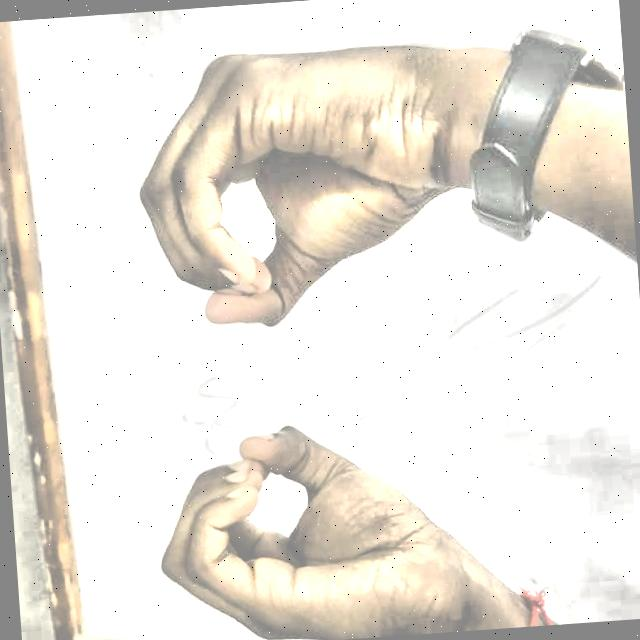Bisharga: (80, 8, 504, 640)
